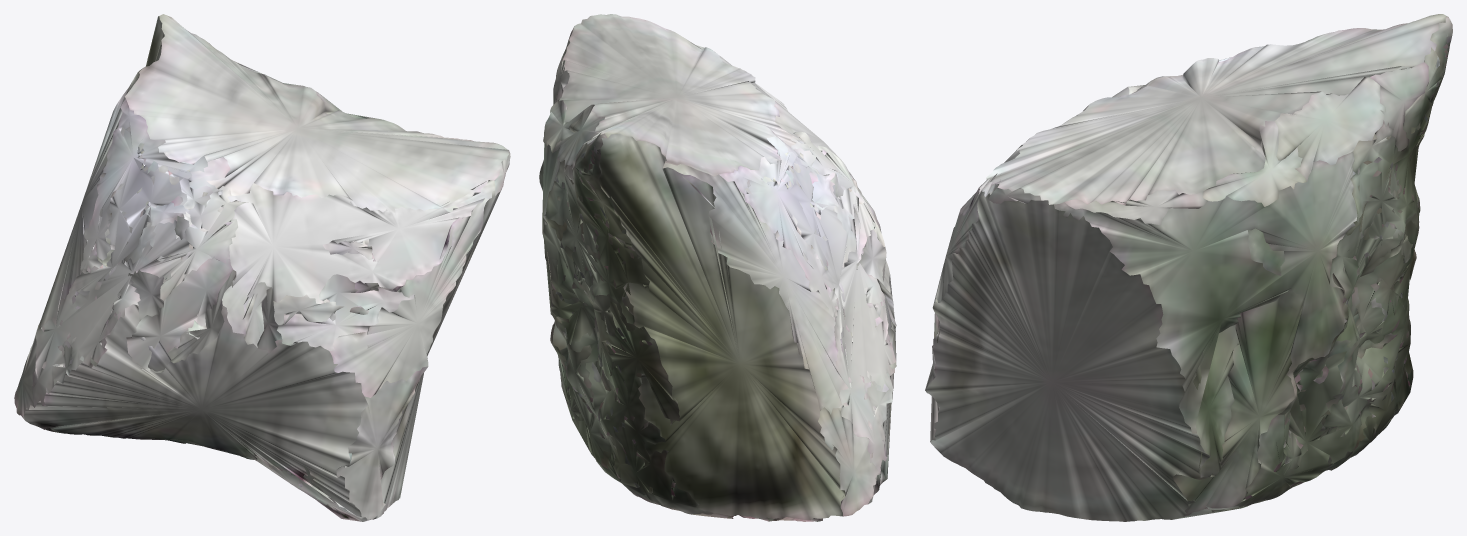
File: 15_pillow.glb
3 renders of one model, left to right at view 1: azimuth 30°, elevation 25°; view 2: azimuth 150°, elevation 25°; view 3: azimuth 270°, elevation 25°, orthographic. The views are drawn at different scales.
Visible parts, largest first — view 1: 15_pillow; view 2: 15_pillow; view 3: 15_pillow.
Part boxes in pixels (bbox=[...]): 15_pillow: bbox=[14, 14, 510, 521]; 15_pillow: bbox=[539, 14, 896, 521]; 15_pillow: bbox=[925, 14, 1452, 521].
Size of the model in its own units: 0.6392 by 0.6164 by 0.6386.
Materials: 1 (1 with a texture image).
